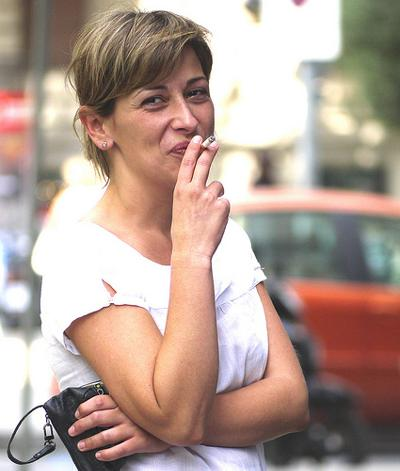person: (36, 9, 312, 468)
